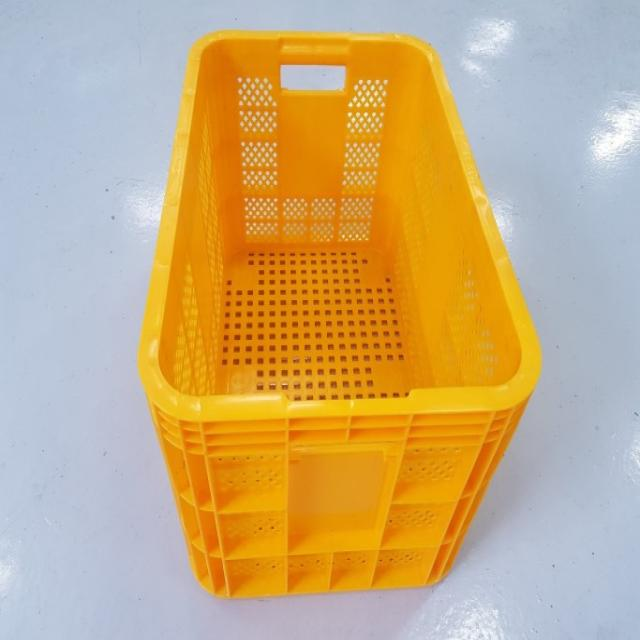basket: (134, 28, 548, 604)
